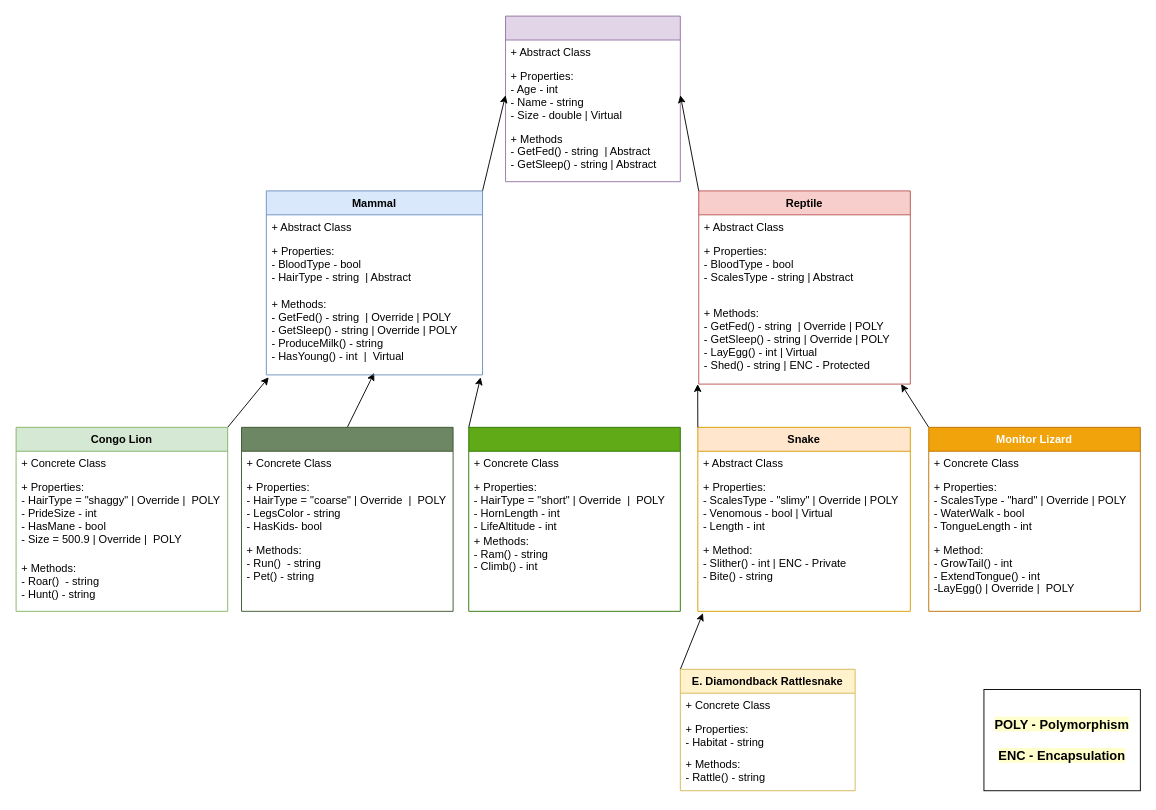
Image size: 1156x810. Some labels were removed from this diagram. Here are the shapes that lost their labels. From the top down, the box of each, then its label:
(505, 15, 680, 182): Animal
(241, 426, 453, 611): Okapi
(468, 426, 680, 611): Merino Ram
